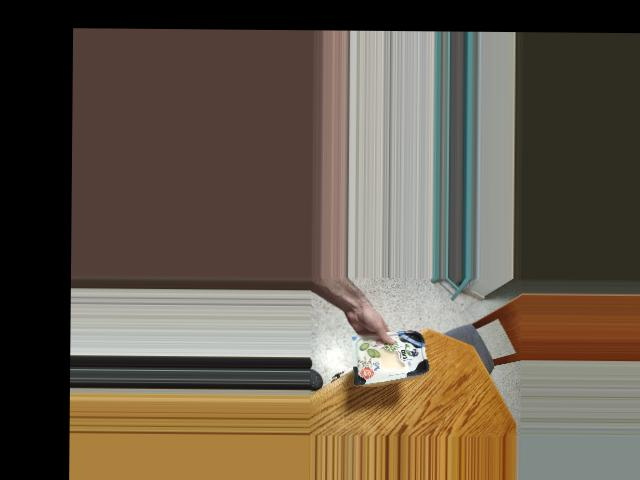cheese: (361, 329, 431, 382)
